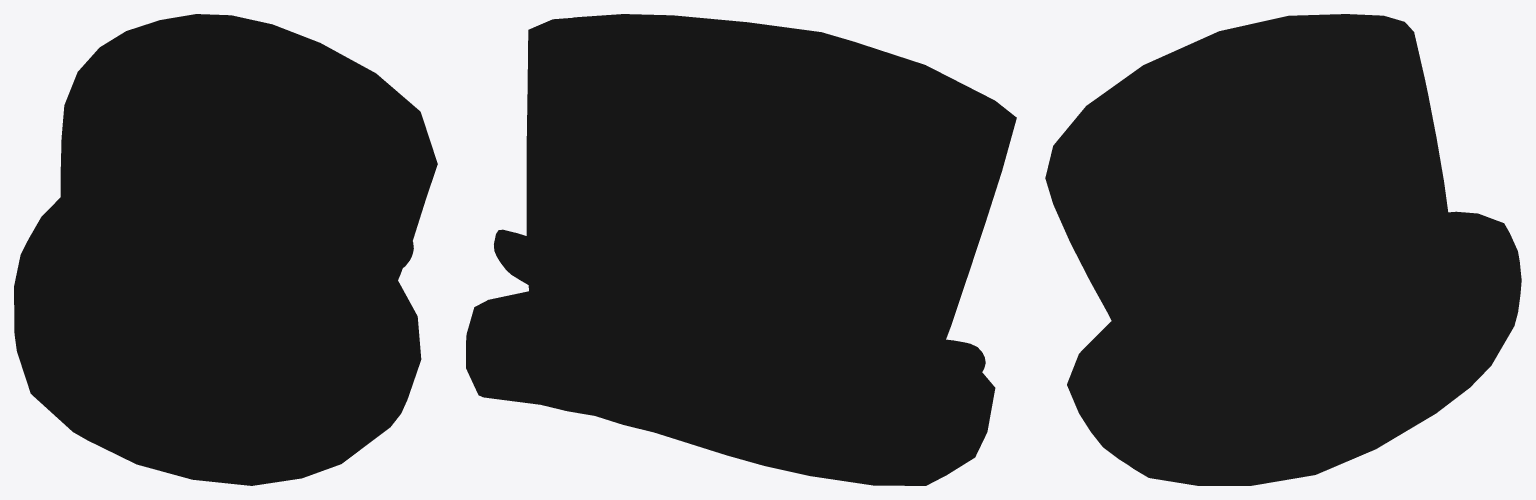
File: 18-Chopper-Hat-2D-139123581689251.glb
The picture shows the model from 3 angles, left to right: view 1: azimuth 30°, elevation 25°; view 2: azimuth 150°, elevation 25°; view 3: azimuth 270°, elevation 25°; orthographic projection. The views are drawn at different scales.
Visible parts, largest first — view 1: 18-Chopper-Hat-2D-139123581689251; view 2: 18-Chopper-Hat-2D-139123581689251; view 3: 18-Chopper-Hat-2D-139123581689251.
Boxes of the visible parts, x1,y1,x2,y2 form: 18-Chopper-Hat-2D-139123581689251: [14, 14, 437, 485]; 18-Chopper-Hat-2D-139123581689251: [466, 14, 1016, 485]; 18-Chopper-Hat-2D-139123581689251: [1045, 14, 1521, 485].
Bounding box in the file's own units: 1.57 × 1.42 × 1.58.
Materials: 1 (1 with a texture image).
